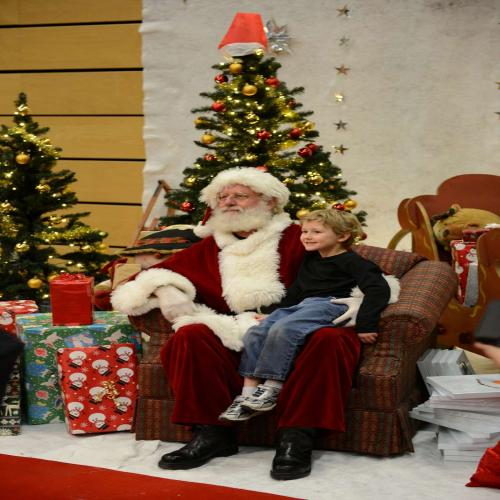Santa: (107, 168, 399, 480)
